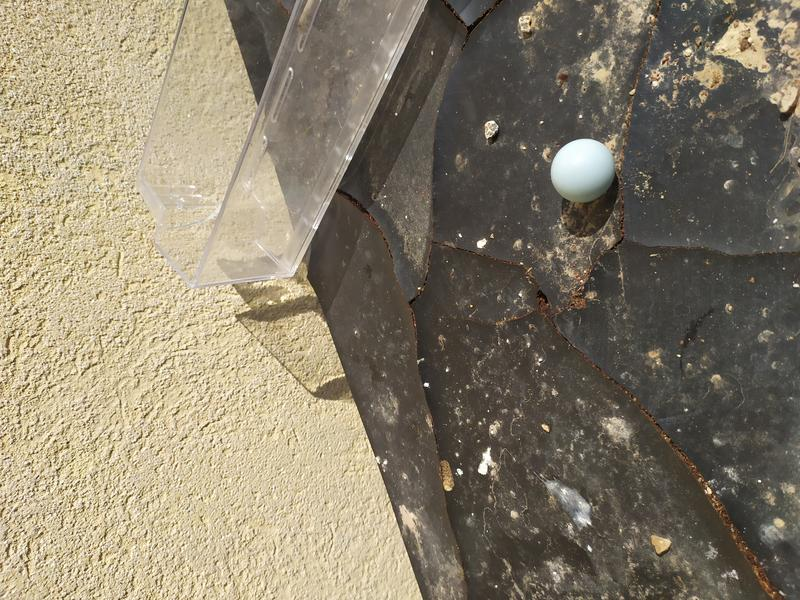Warning: (548, 135, 618, 206)
